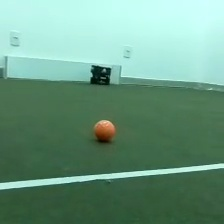ball: (90, 116, 118, 144)
goal: (1, 53, 123, 86)
robot: (88, 62, 113, 87)
